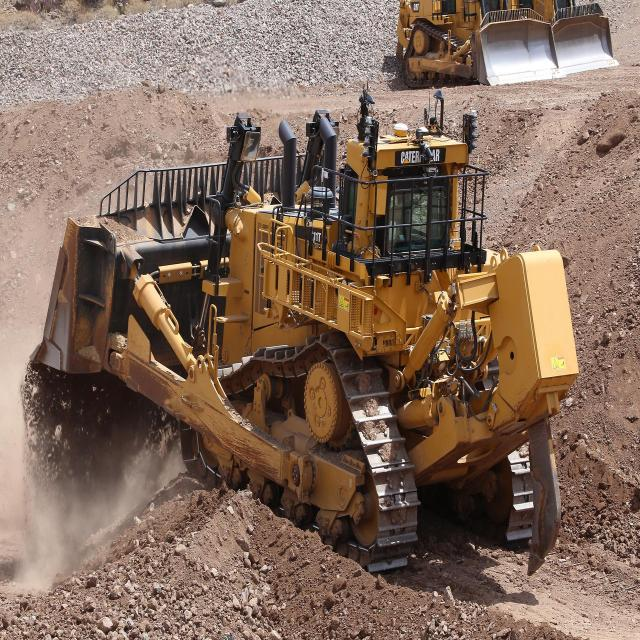buldozerpayloadergrader: (31, 99, 596, 622)
